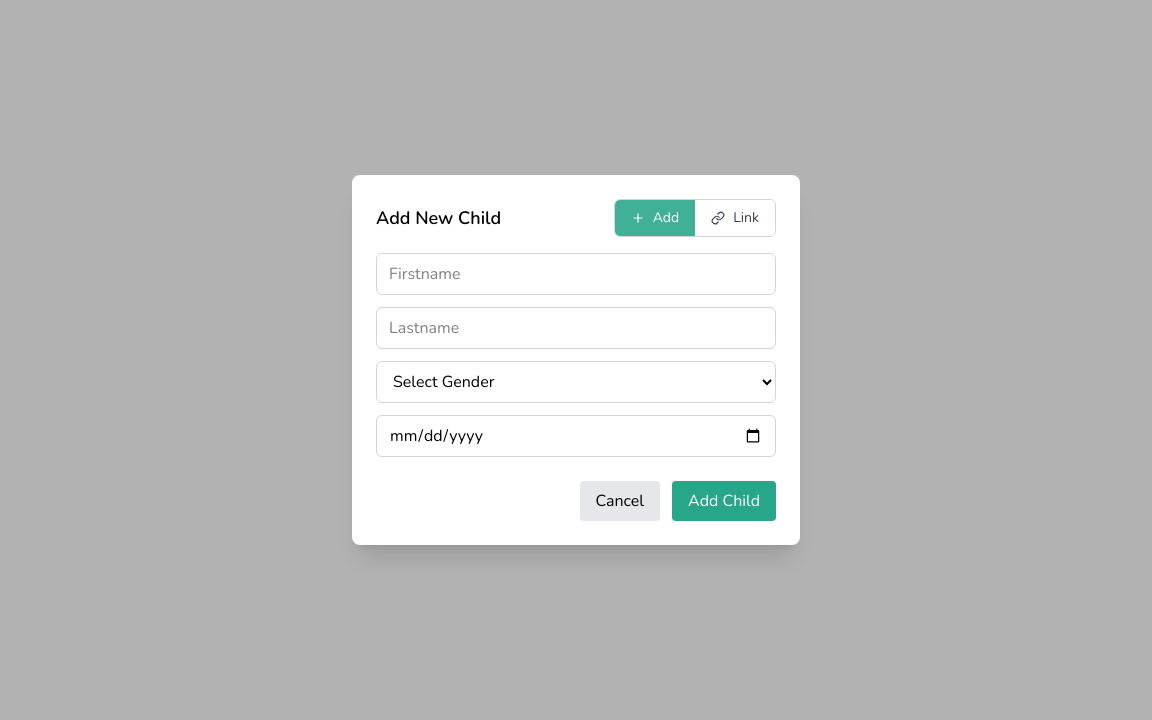
it: ChildModal › renders Add tab by default and switches tabs
Expected: the heading "Add New Child" is shown, [376, 204, 501, 232]
Step 1. Click the button "Link" → (735, 218), box [695, 200, 775, 236]
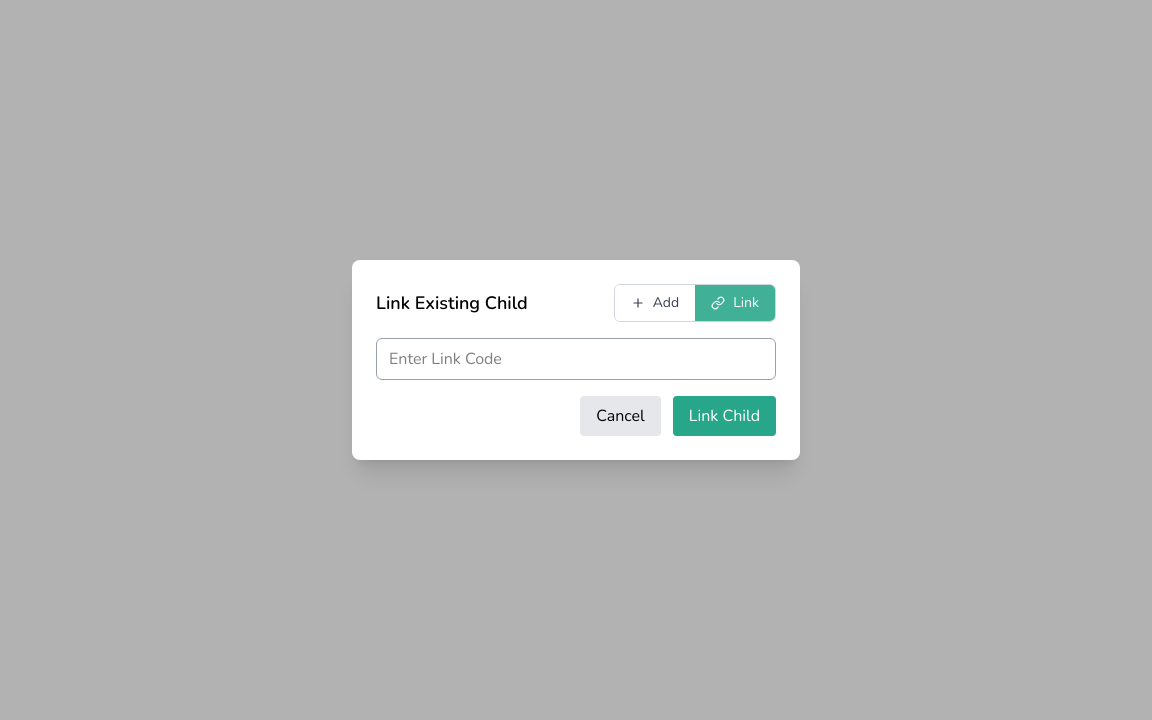
Expected: the heading "Link Existing Child" is shown, [376, 289, 528, 317]
Step 2. Click the button "Add" → (655, 303), box [615, 285, 695, 321]
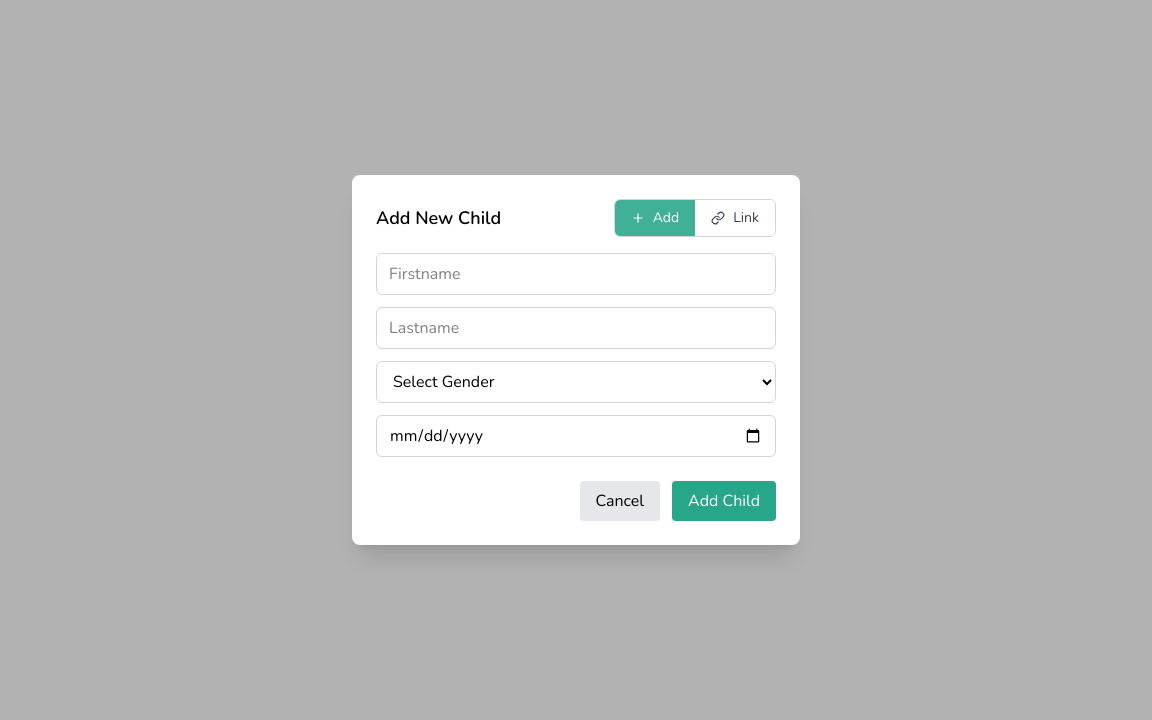
Expected: the heading "Add New Child" is shown, [376, 204, 501, 232]
